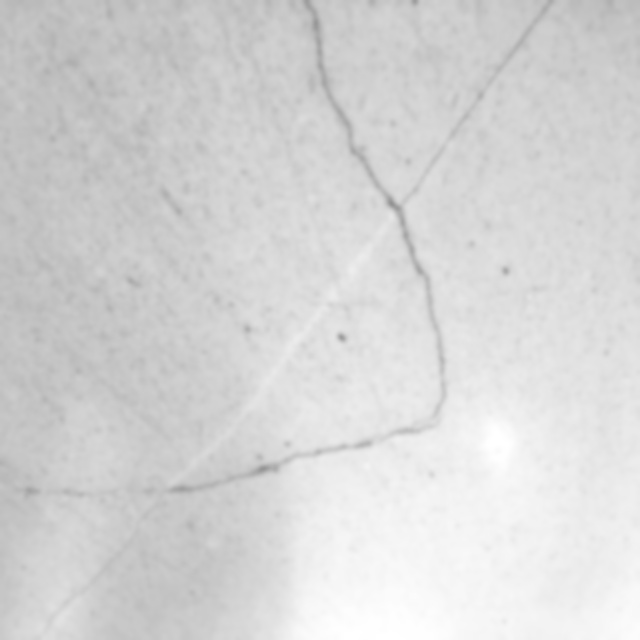SurfaceCrack: (234, 0, 625, 618)
